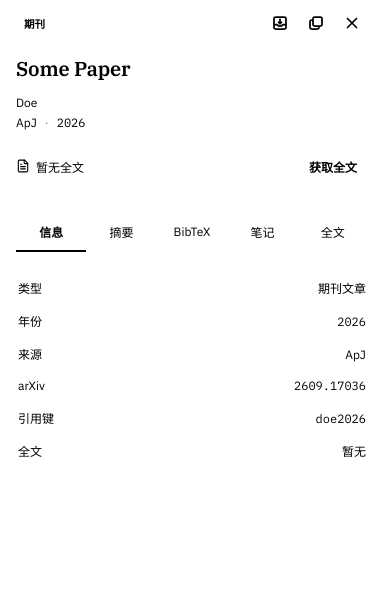
Work merge notice after a task (ticket 06) › a task that finished while the Work detail was closed still shows its note when the Files tab opens (scenario B)
The image size is (385, 592).
Click the tab "全文" at [333, 233], box [298,214,368,252]
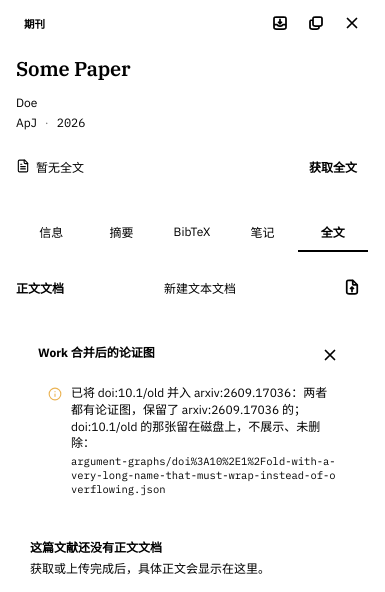
Check: the element that starts with "Work 合并后的论证图" is shown, box [28,323,356,512]
